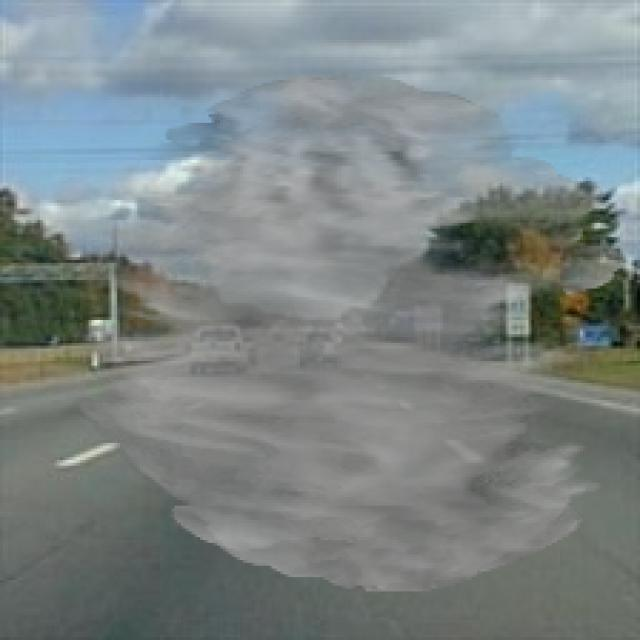smoke: (69, 74, 626, 592)
